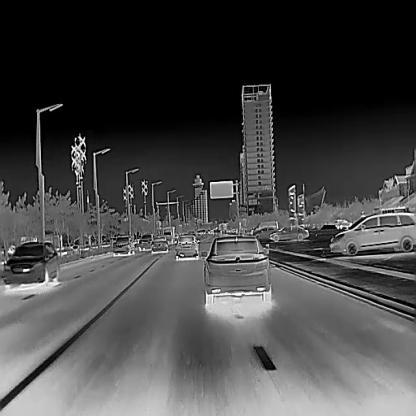car: (200, 235, 271, 306), (329, 212, 415, 254), (3, 241, 59, 285), (174, 234, 200, 262), (269, 225, 309, 242), (112, 235, 134, 254), (151, 234, 168, 253), (252, 226, 278, 238), (138, 233, 153, 251), (162, 226, 173, 243), (335, 219, 352, 229)
